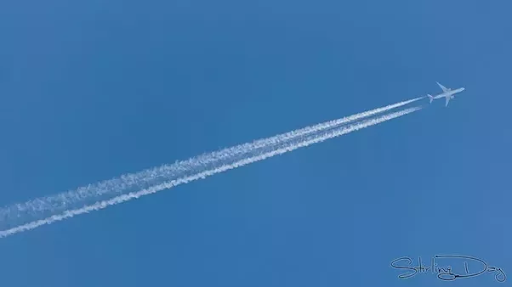plane: (425, 81, 468, 107)
